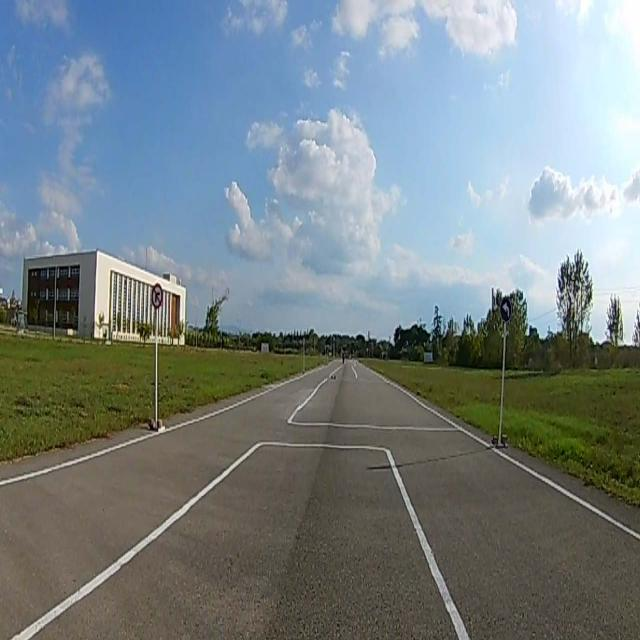sagadonulmez: (152, 282, 162, 308)
sol: (501, 299, 511, 321)
